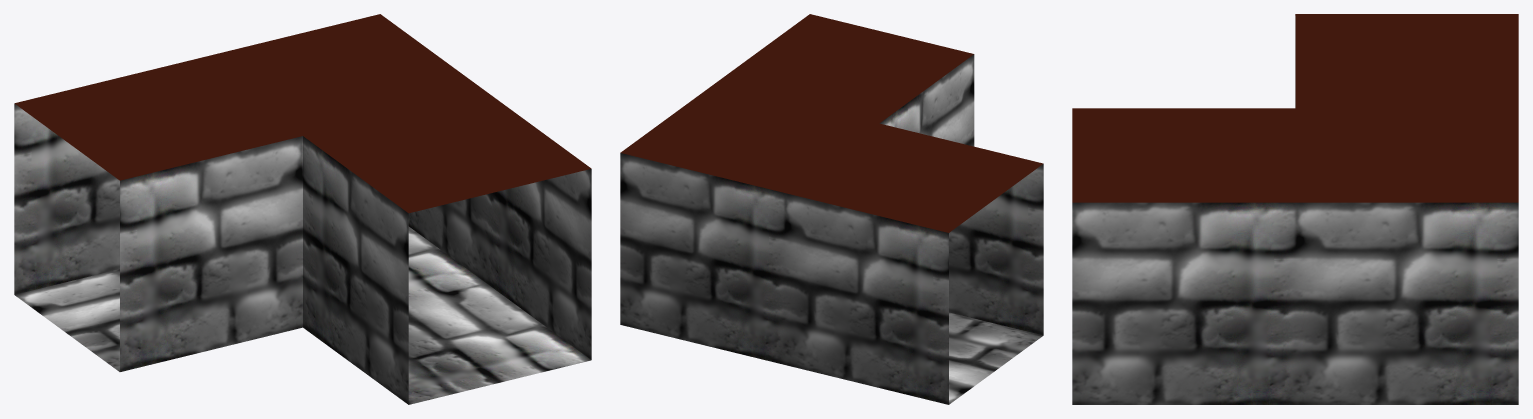
The model's file is castle_L1.fbx.
The picture shows the model from 3 angles, left to right: view 1: azimuth 30°, elevation 25°; view 2: azimuth 150°, elevation 25°; view 3: azimuth 270°, elevation 25°; orthographic projection. The views are drawn at different scales.
Parts seen in each view (by area): view 1: Plane.055; view 2: Plane.055; view 3: Plane.055.
Boxes of the visible parts, left/top/right/bottom form: Plane.055: left=14, top=14, right=591, bottom=404; Plane.055: left=620, top=14, right=1043, bottom=404; Plane.055: left=1072, top=14, right=1518, bottom=404.
Size of the model in its own units: 800 by 400 by 800.
2 materials, 1 textured.
